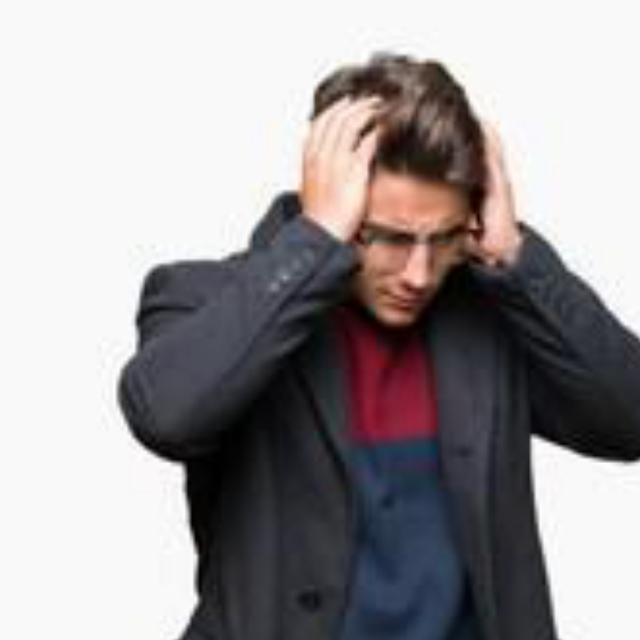angry: (317, 110, 492, 330)
